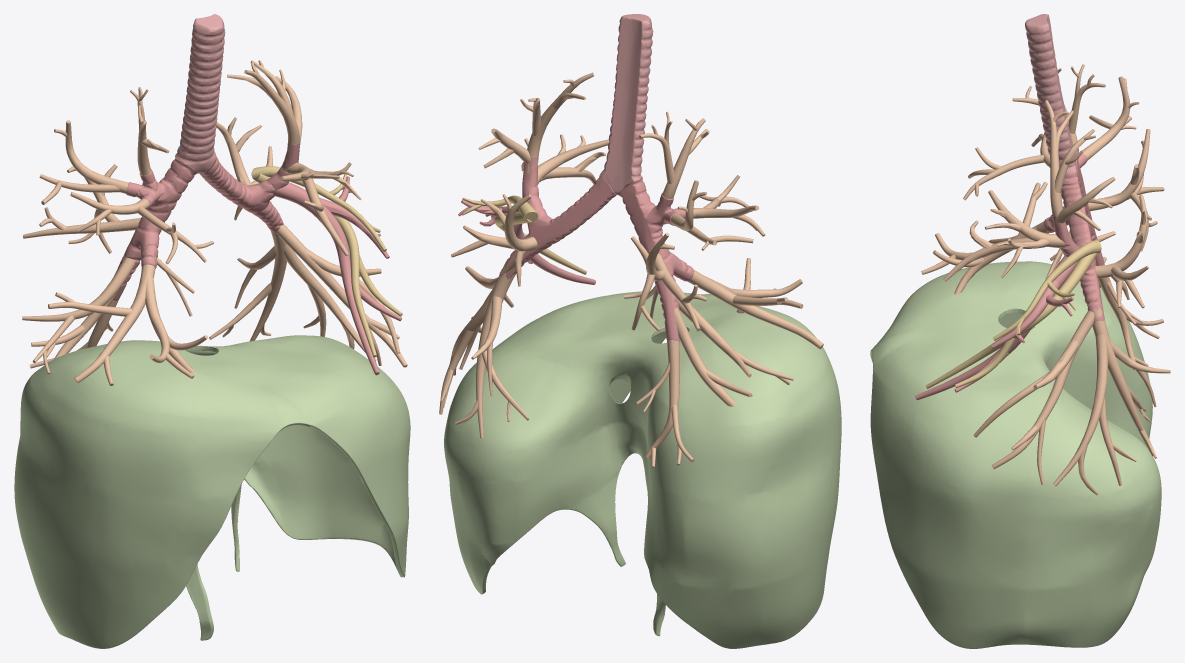
Rendered from respiratory.v1.glb.
3 renders of one model, left to right at view 1: azimuth 30°, elevation 25°; view 2: azimuth 150°, elevation 25°; view 3: azimuth 270°, elevation 25°, orthographic. The views are drawn at different scales.
Visible parts, largest first — view 1: diaphragm, trachea, right_main_bronchus_proper, left_main_bronchus, lateral_segmental_bronchial_tree, inferior_lingular_bronchial_tree, left_posterior_basal_segmental_bronchial_tree, right_superior_segmental_bronchial_tree, right_anterior_segmental_bronchial_tree, inferior_lingular_artery, left_lateral_basal_segmental_bronchial_tree, right_posterior_segmental_bronchial_tree (+12 smaller); view 2: diaphragm, trachea, right_main_bronchus_proper, left_main_bronchus, left_posterior_basal_segmental_bronchial_tree, right_superior_segmental_bronchial_tree, lateral_segmental_bronchial_tree, left_superior_segmental_bronchial_tree, right_posterior_basal_segmental_bronchial_tree, left_anterior_segmental_bronchial_tree, right_apical_segmental_bronchial_tree, left_apical_segmental_bronchial_tree (+10 smaller); view 3: diaphragm, trachea, left_main_bronchus, left_anterior_segmental_bronchial_tree, left_lateral_basal_segmental_bronchial_tree, left_posterior_basal_segmental_bronchial_tree, inferior_lingular_artery, left_apical_segmental_bronchial_tree, left_superior_segmental_bronchial_tree, left_medial_basal_segmental_bronchial_tree, left_anterior_basal_segmental_bronchial_tree, right_superior_segmental_bronchial_tree (+11 smaller).
Part boxes in pixels (bbox=[...]): diaphragm: bbox=[14, 335, 410, 648]; trachea: bbox=[175, 14, 225, 173]; right_main_bronchus_proper: bbox=[113, 156, 197, 300]; left_main_bronchus: bbox=[199, 141, 299, 236]; lateral_segmental_bronchial_tree: bbox=[48, 256, 156, 385]; inferior_lingular_bronchial_tree: bbox=[273, 182, 401, 375]; left_posterior_basal_segmental_bronchial_tree: bbox=[209, 230, 286, 341]; right_superior_segmental_bronchial_tree: bbox=[23, 164, 140, 253]; right_anterior_segmental_bronchial_tree: bbox=[70, 192, 213, 264]; inferior_lingular_artery: bbox=[256, 173, 402, 357]; left_lateral_basal_segmental_bronchial_tree: bbox=[284, 244, 376, 360]; right_posterior_segmental_bronchial_tree: bbox=[39, 120, 141, 204]; diaphragm: bbox=[444, 291, 841, 648]; trachea: bbox=[600, 14, 653, 195]; right_main_bronchus_proper: bbox=[619, 177, 693, 341]; left_main_bronchus: bbox=[500, 156, 616, 279]; left_posterior_basal_segmental_bronchial_tree: bbox=[455, 263, 529, 438]; right_superior_segmental_bronchial_tree: bbox=[624, 233, 707, 331]; lateral_segmental_bronchial_tree: bbox=[687, 266, 823, 348]; left_superior_segmental_bronchial_tree: bbox=[451, 194, 537, 286]; right_posterior_basal_segmental_bronchial_tree: bbox=[636, 339, 694, 467]; left_anterior_segmental_bronchial_tree: bbox=[521, 134, 609, 184]; right_apical_segmental_bronchial_tree: bbox=[639, 111, 709, 198]; left_apical_segmental_bronchial_tree: bbox=[520, 72, 593, 187]; diaphragm: bbox=[870, 261, 1161, 648]; trachea: bbox=[1025, 14, 1077, 175]; left_main_bronchus: bbox=[1052, 172, 1104, 322]; left_anterior_segmental_bronchial_tree: bbox=[943, 190, 1066, 281]; left_lateral_basal_segmental_bronchial_tree: bbox=[1053, 334, 1136, 495]; left_posterior_basal_segmental_bronchial_tree: bbox=[1092, 308, 1170, 458]; inferior_lingular_artery: bbox=[925, 253, 1097, 388]; left_apical_segmental_bronchial_tree: bbox=[1044, 100, 1095, 246]; left_superior_segmental_bronchial_tree: bbox=[1095, 194, 1148, 308]; left_medial_basal_segmental_bronchial_tree: bbox=[991, 310, 1094, 468]; left_anterior_basal_segmental_bronchial_tree: bbox=[973, 340, 1078, 484]; right_superior_segmental_bronchial_tree: bbox=[1088, 129, 1164, 251].
Bounding box in the file's own units: 0.2452 × 0.4096 × 0.185.
